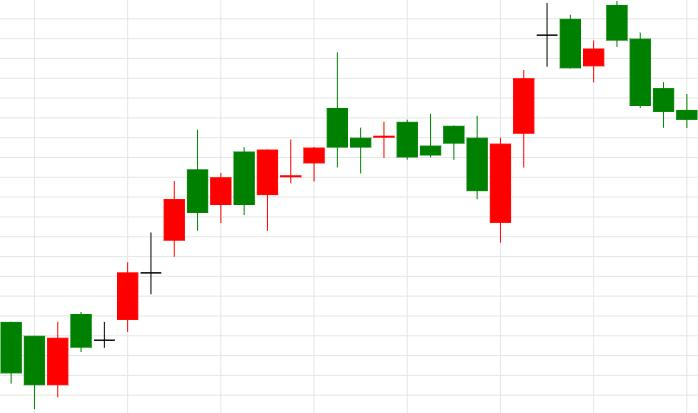shooting_star_fall: (117, 51, 348, 332)
